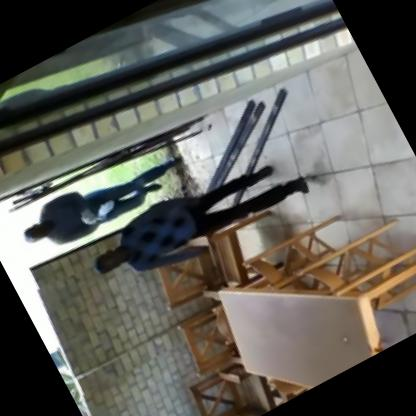Human Body: (76, 126, 322, 306), (3, 129, 191, 267)
